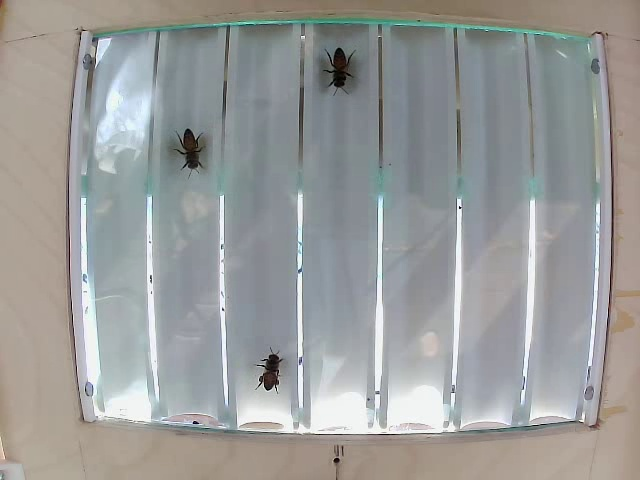bee: (176, 134, 211, 186), (249, 347, 283, 388), (322, 50, 339, 123)
